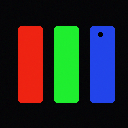0 point: (98, 32, 102, 36)
